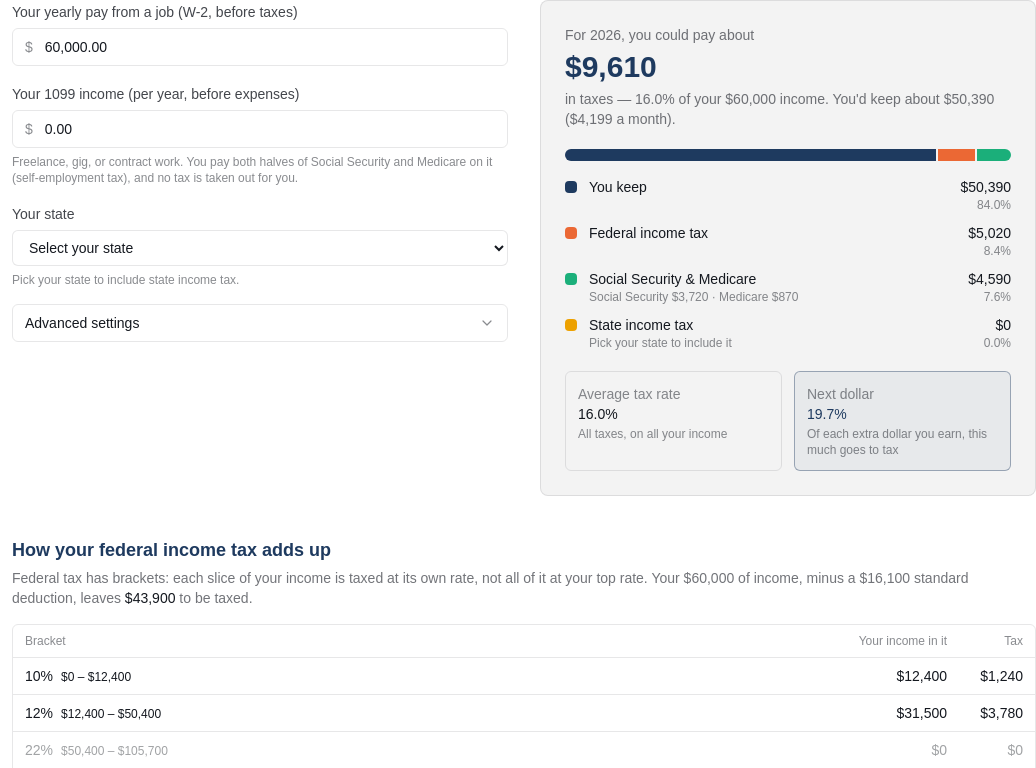
Income Tax Calculator › says when income is under the deduction
This screenshot has width=1036, height=768.
Replace the text in the field with id "wages" with "10000" at (270, 47), box [33,29,507,65]
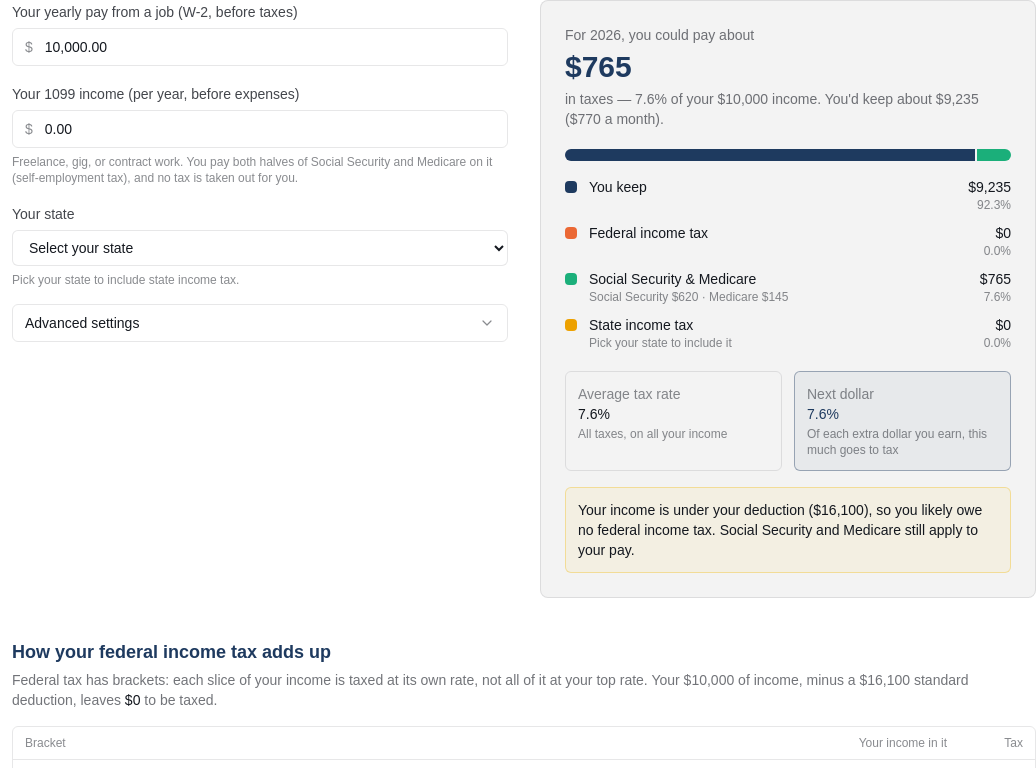
Result: the text "likely owe no federal income tax" is shown at [578,502,982,558]
